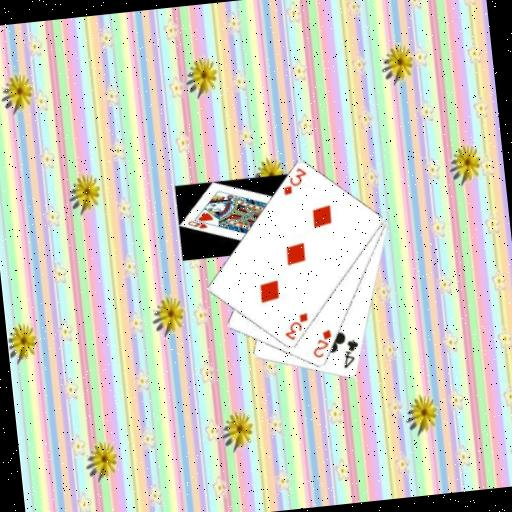2D: (308, 326, 335, 360)
3D: (280, 309, 312, 343), (279, 164, 311, 197)
4C: (338, 336, 362, 370)
